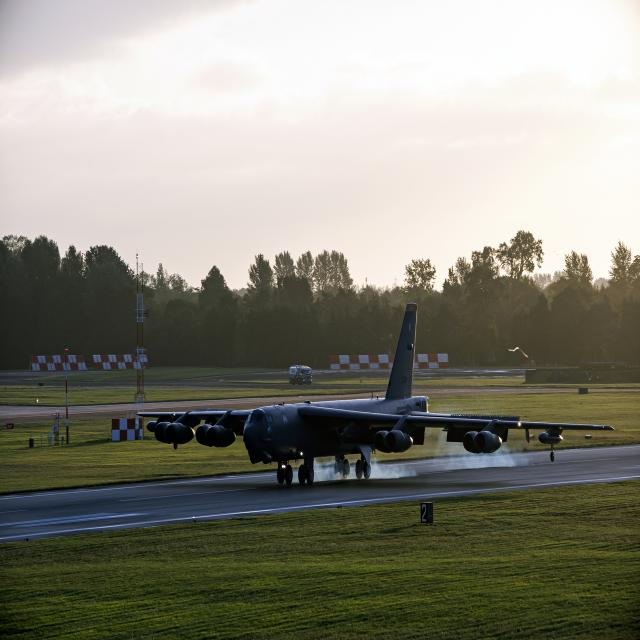MIL_Plane: (145, 300, 606, 483)
